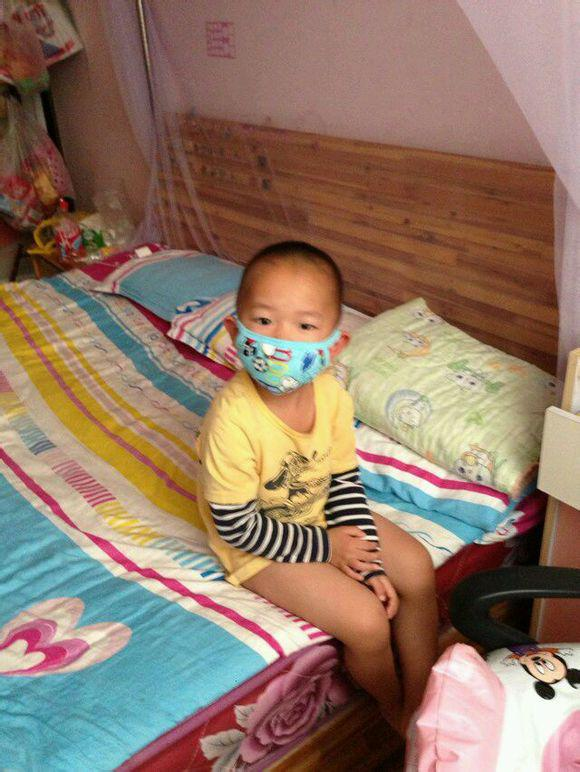OK: (236, 299, 336, 399)
